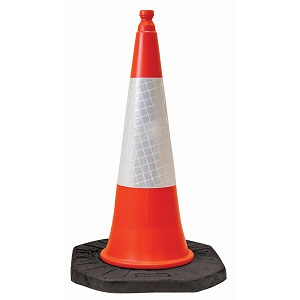traffic cone: (71, 10, 227, 293)
